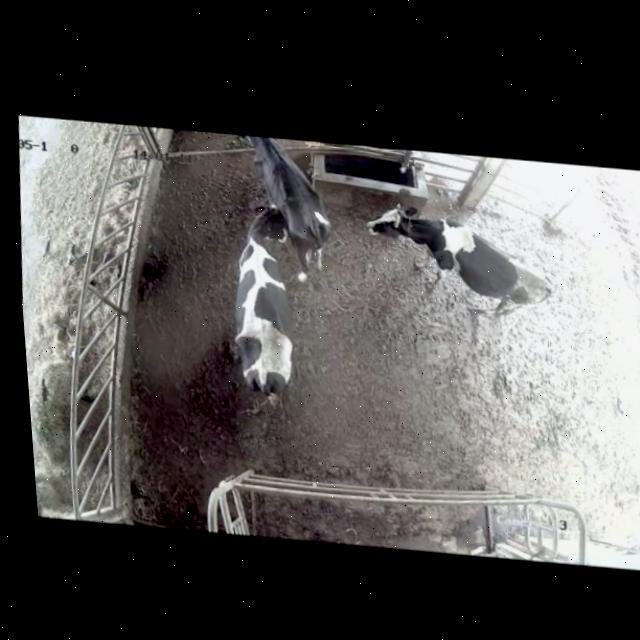stand: (362, 196, 559, 336), (204, 195, 312, 418), (235, 131, 341, 274)
